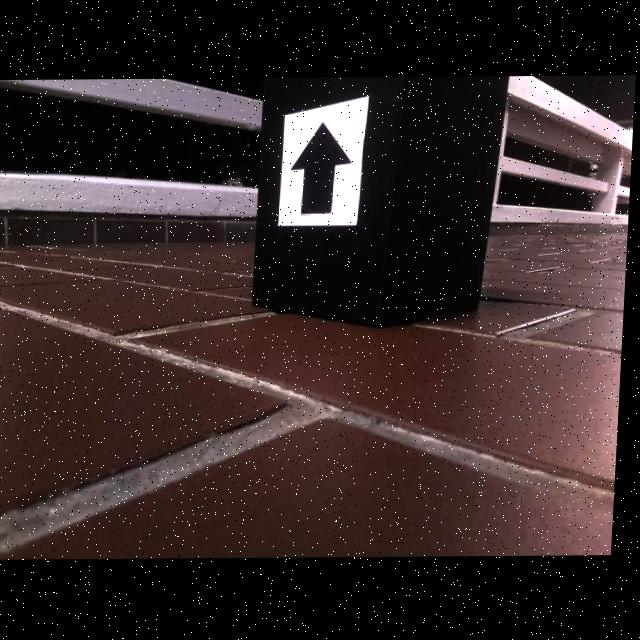UP: (292, 122, 355, 215)
